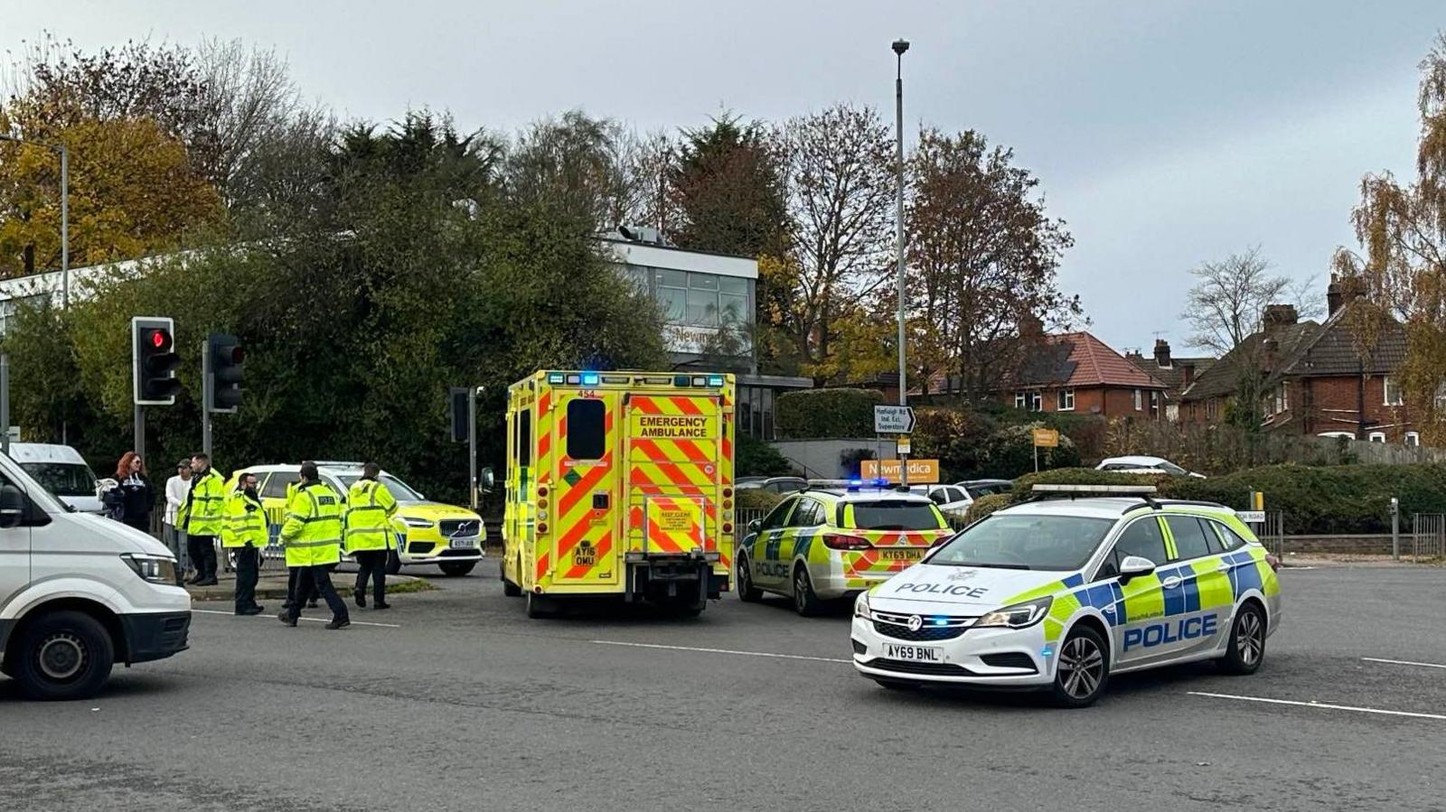Car: (839, 489, 1297, 722), (1, 425, 213, 693), (740, 468, 955, 589)
Person: (267, 461, 356, 635), (340, 460, 405, 614), (230, 465, 268, 614)
